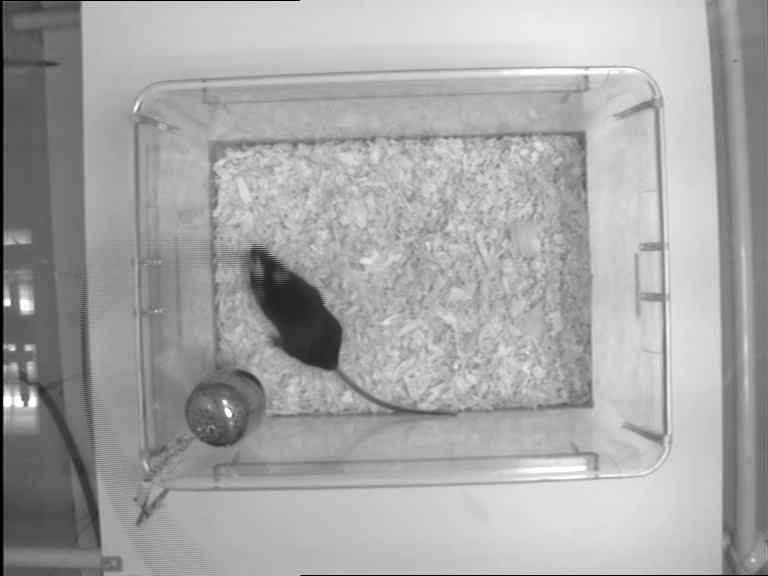mice: (245, 243, 463, 418)
